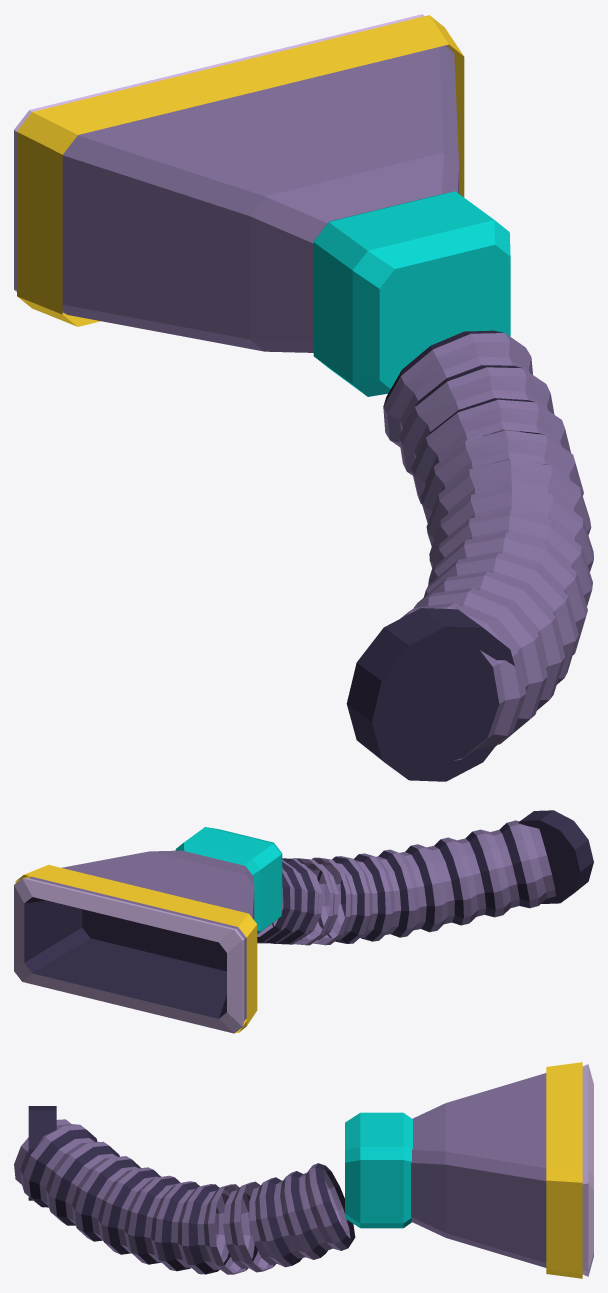
The model's file is vaccoin-vacuum.glb.
The picture shows the model from 3 angles, top to bottom: view 1: azimuth 30°, elevation 25°; view 2: azimuth 150°, elevation 25°; view 3: azimuth 270°, elevation 25°; orthographic projection. The views are drawn at different scales.
Parts seen in each view (by area): view 1: Vaccoin_body, Vaccoin_coupler, Vaccoin_accent, Vaccoin_dark, Vaccoin_trim; view 2: Vaccoin_dark, Vaccoin_body, Vaccoin_trim, Vaccoin_accent, Vaccoin_coupler; view 3: Vaccoin_body, Vaccoin_dark, Vaccoin_accent, Vaccoin_coupler, Vaccoin_trim.
Boxes of the visible parts, x1,y1,x2,y2 form: Vaccoin_body: [62, 45, 593, 760]; Vaccoin_coupler: [313, 191, 510, 396]; Vaccoin_accent: [17, 15, 464, 326]; Vaccoin_dark: [346, 330, 546, 781]; Vaccoin_trim: [14, 14, 424, 291]; Vaccoin_dark: [24, 810, 593, 1018]; Vaccoin_body: [29, 820, 555, 1020]; Vaccoin_trim: [14, 878, 244, 1033]; Vaccoin_accent: [15, 864, 257, 1032]; Vaccoin_coupler: [175, 827, 282, 933]; Vaccoin_body: [14, 1073, 546, 1274]; Vaccoin_dark: [28, 1106, 355, 1274]; Vaccoin_accent: [546, 1062, 582, 1278]; Vaccoin_coupler: [345, 1112, 412, 1228]; Vaccoin_trim: [582, 1064, 593, 1276].
Bounding box in the file's own units: 1.31 × 0.688 × 2.07.
